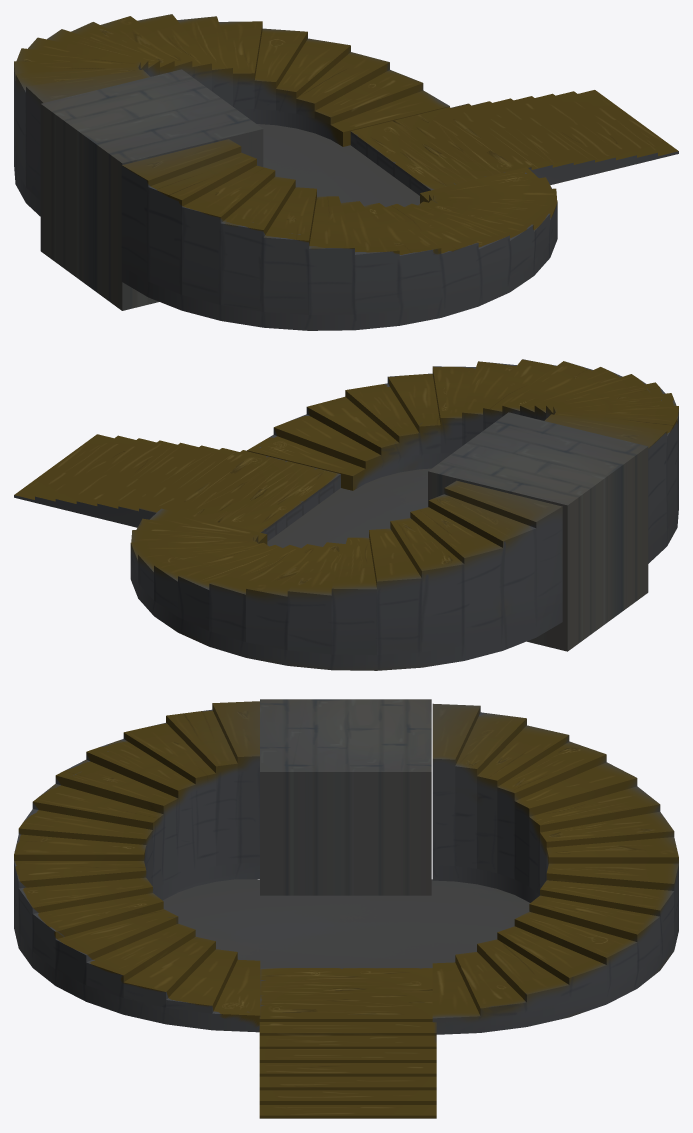
The model's file is stire.fbx.
3 views of the same model, one above another, from view 1: azimuth 30°, elevation 25°; view 2: azimuth 150°, elevation 25°; view 3: azimuth 270°, elevation 25° (orthographic). The views are drawn at different scales.
Visible parts, largest first — view 1: pCube22; view 2: pCube22; view 3: pCube22.
Boxes of the visible parts, x1,y1,x2,y2 form: pCube22: (14, 14, 678, 330); pCube22: (14, 359, 678, 670); pCube22: (14, 699, 678, 1118).
Size of the model in its own units: 36.9 by 9.35 by 36.23.
